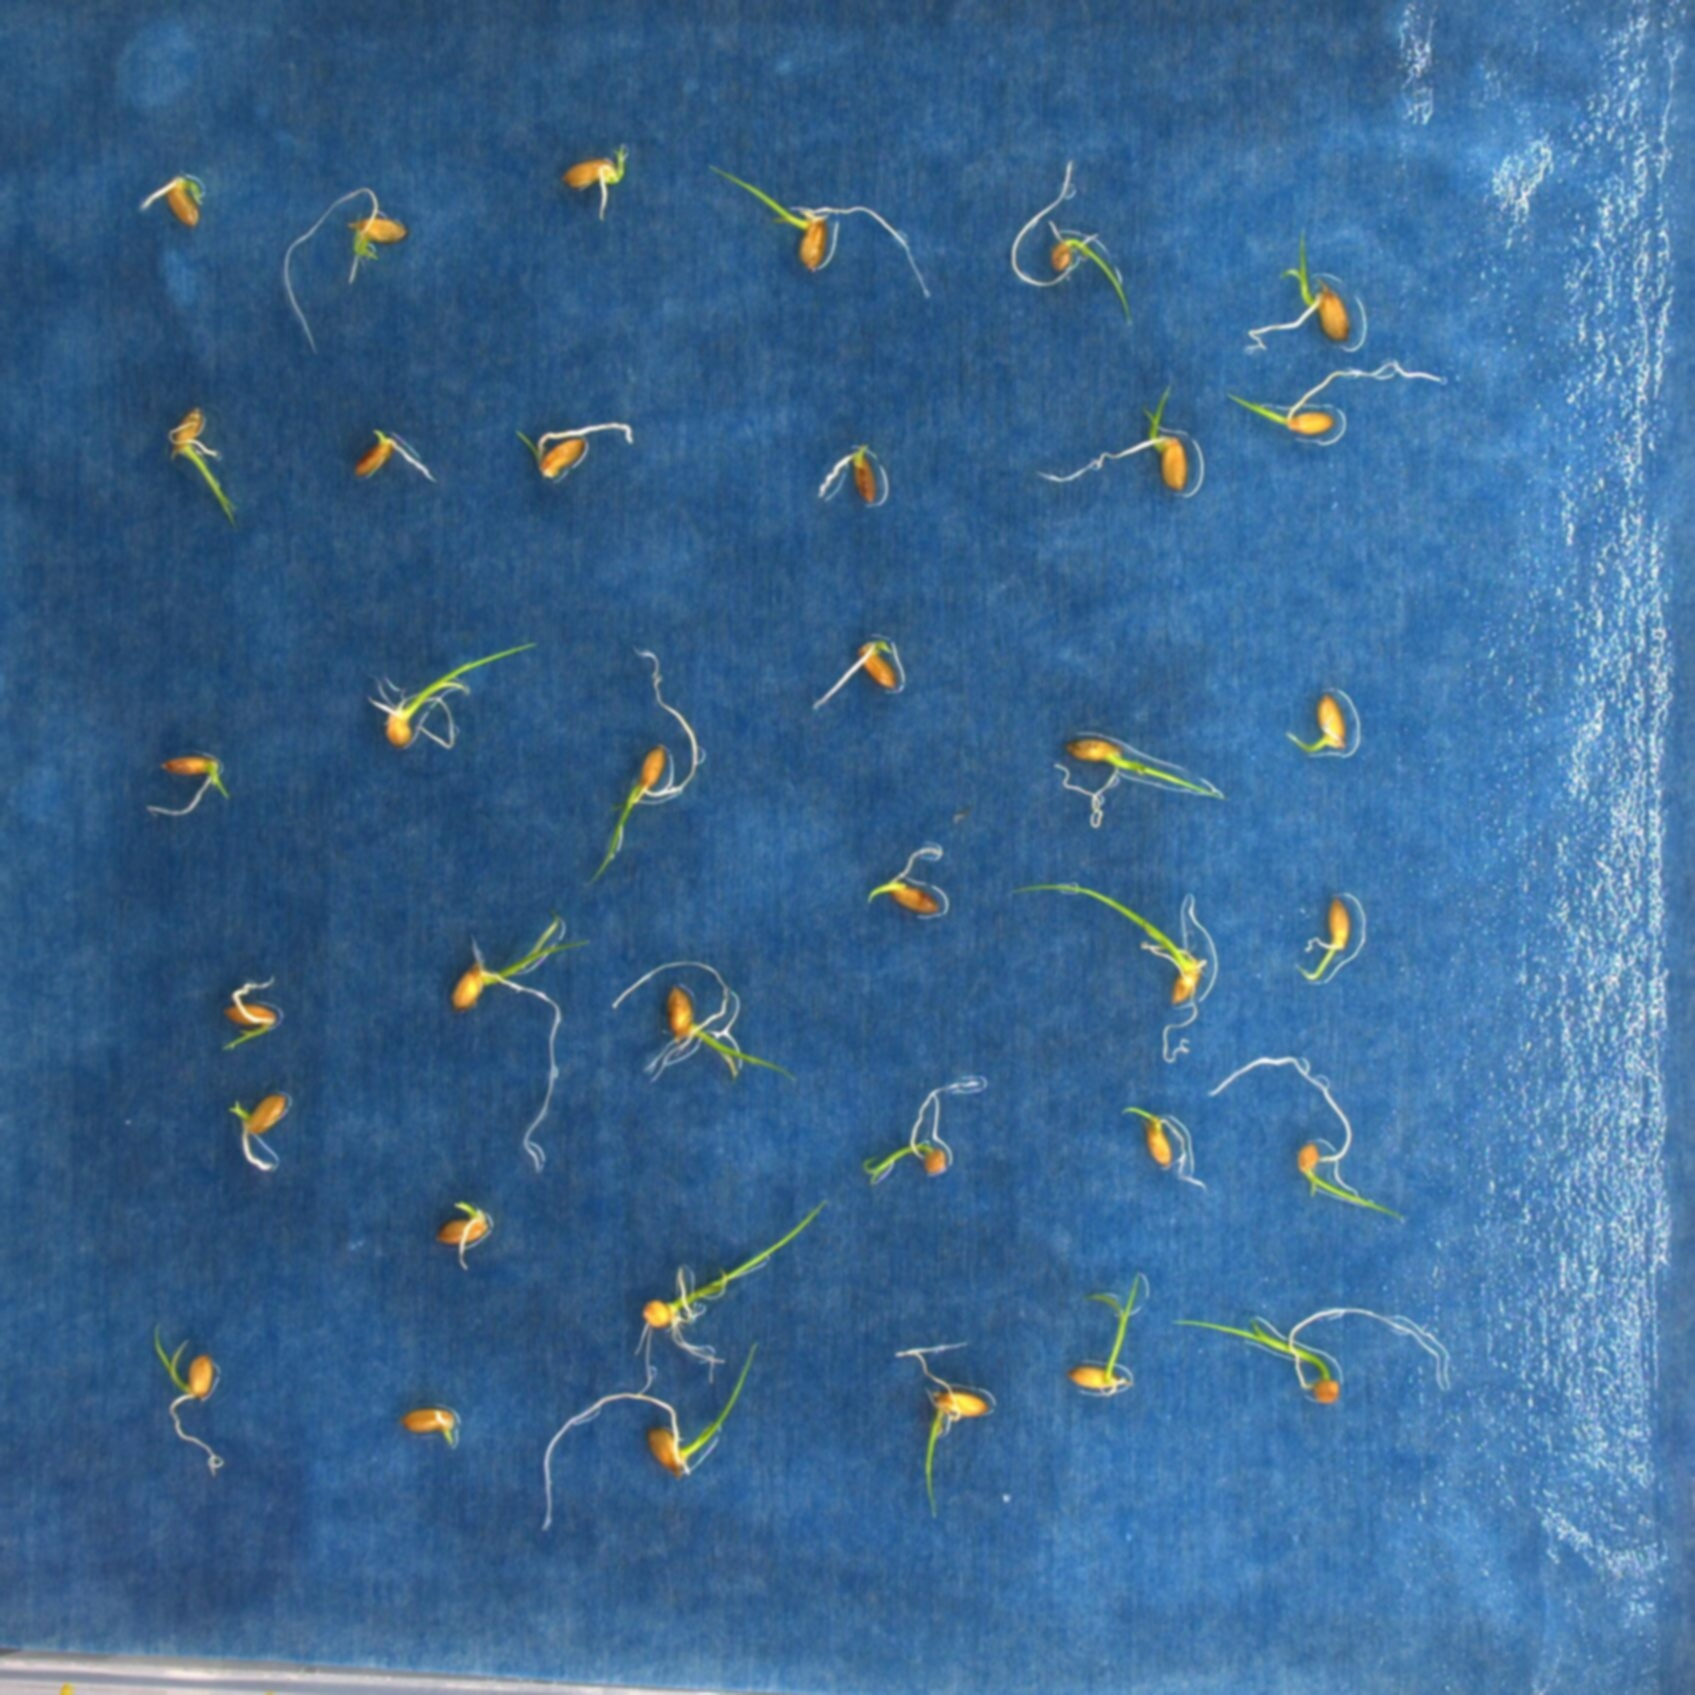not sprout: (809, 640, 906, 709), (349, 425, 433, 486), (820, 445, 882, 504), (399, 1406, 463, 1450)
sprout: (542, 1347, 757, 1532), (626, 1205, 832, 1388), (450, 920, 594, 1173), (1017, 882, 1211, 1065), (1211, 1054, 1405, 1232), (705, 157, 934, 301), (584, 646, 702, 893), (1170, 1301, 1447, 1405), (607, 961, 796, 1097), (1001, 157, 1139, 320), (360, 640, 542, 750), (1038, 366, 1195, 489), (281, 183, 400, 343), (1229, 363, 1439, 445), (1051, 736, 1226, 829), (899, 1343, 990, 1518), (1246, 227, 1347, 371), (141, 1322, 231, 1471), (863, 1080, 983, 1186), (165, 407, 242, 526), (511, 418, 641, 480), (1073, 1281, 1142, 1392), (1121, 1101, 1203, 1191), (143, 750, 231, 823), (861, 843, 944, 914), (228, 1090, 290, 1183), (1291, 899, 1350, 989), (213, 976, 270, 1054), (1281, 691, 1347, 757), (560, 149, 622, 219), (439, 1201, 492, 1271), (143, 174, 200, 224)
